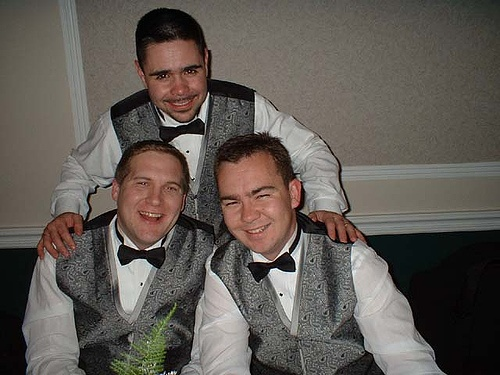head: (210, 131, 305, 259), (108, 140, 192, 248), (135, 7, 212, 122)
person: (39, 5, 351, 275), (185, 123, 447, 375), (18, 142, 216, 374)
